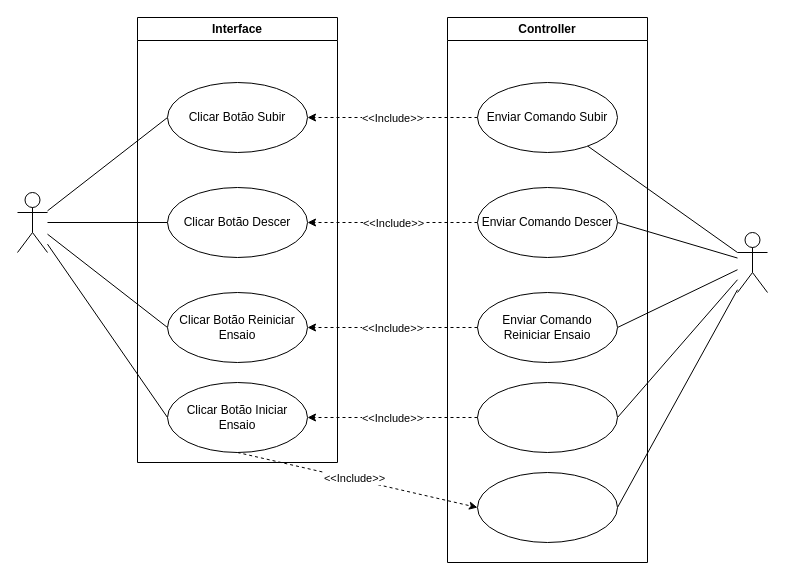
The diagram is 790 pixels wide and 580 high, and some of its shapes have lost their labels. The shapes that lost their labels are listed below. From the top down, each one's centre as x and y in pixels, then its label:
At point 32,222: "Client".
At point 752,262: "Arduino".
At point 547,417: "Enviar Comando Iniciar Ensaio".
At point 547,507: "Enviar Dados da Célula de Carga".
